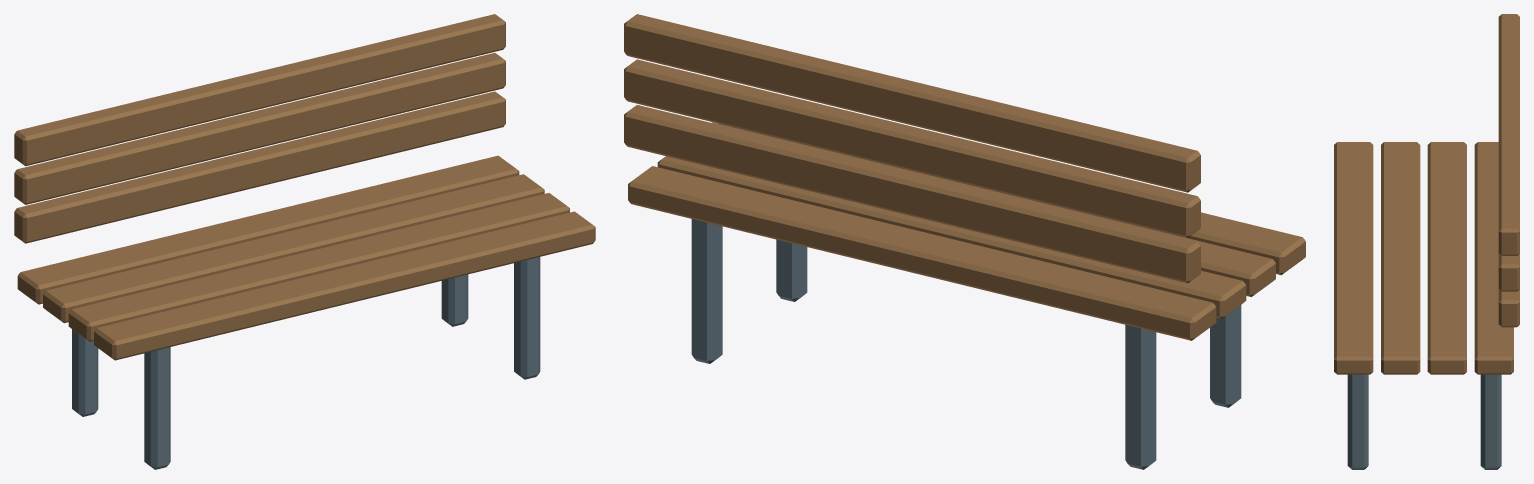
Rendered from props-bench.lod0.glb.
The picture shows the model from 3 angles, left to right: view 1: azimuth 30°, elevation 25°; view 2: azimuth 150°, elevation 25°; view 3: azimuth 270°, elevation 25°; orthographic projection. The views are drawn at different scales.
Parts seen in each view (by area): view 1: props-bench__body; view 2: props-bench__body; view 3: props-bench__body.
Boxes of the visible parts, x1,y1,x2,y2 form: props-bench__body: (14, 14, 595, 469); props-bench__body: (624, 14, 1305, 469); props-bench__body: (1334, 14, 1519, 469).
Size of the model in its own units: 1.7 by 0.96 by 0.615.
